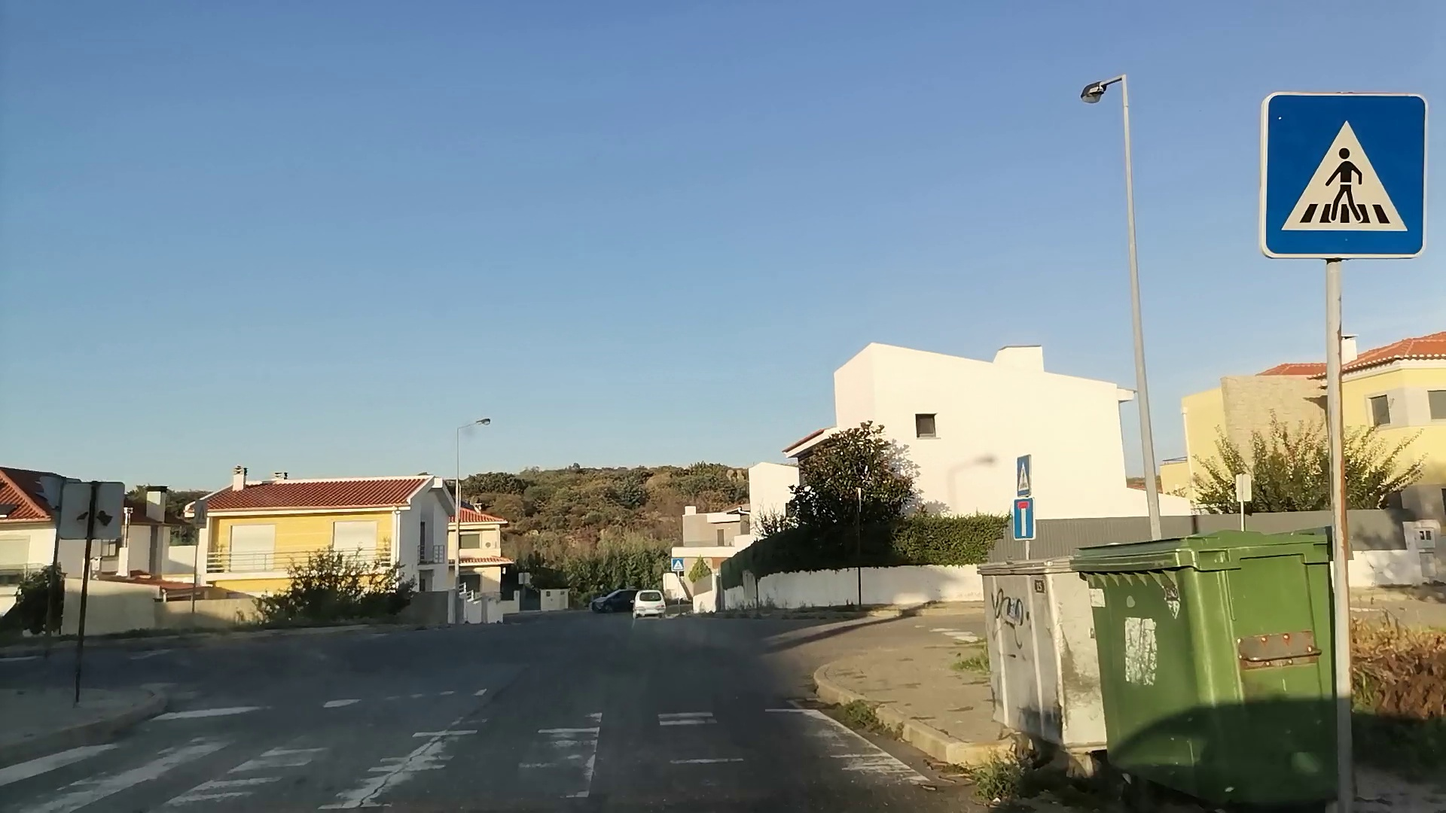Stairs: (0, 706, 936, 813)
